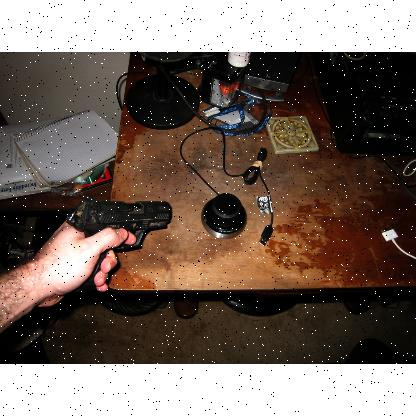gun: (66, 195, 172, 291)
